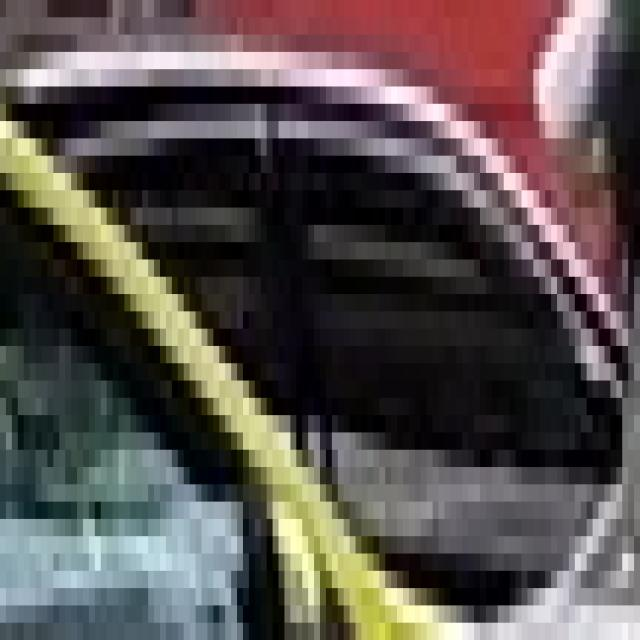door: (0, 0, 634, 623)
